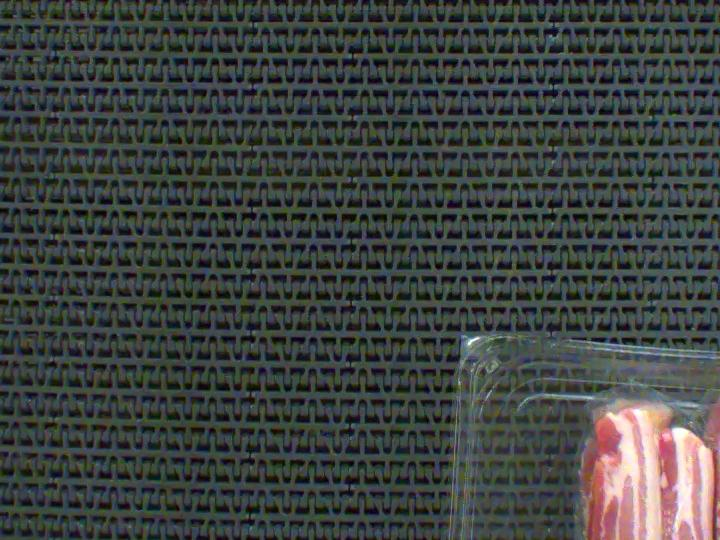unsealed: (564, 383, 720, 488)
